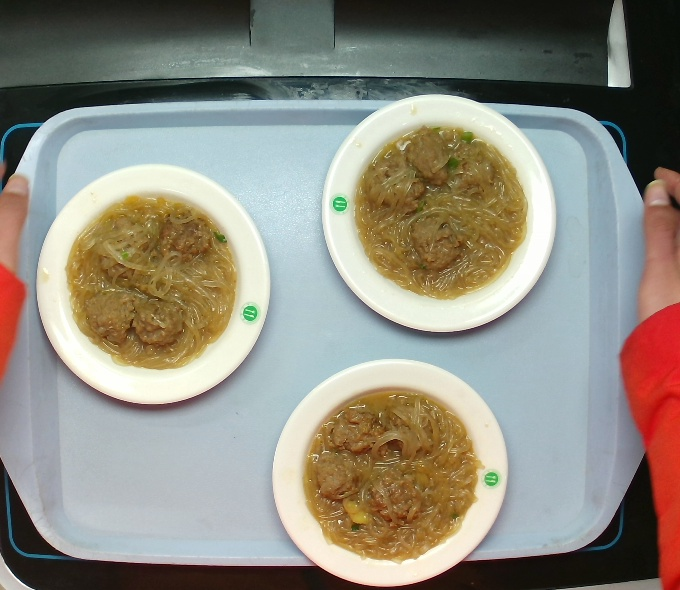wcq-FenSiNiuRouWan: (347, 115, 538, 307), (301, 379, 488, 566), (57, 192, 242, 369)
